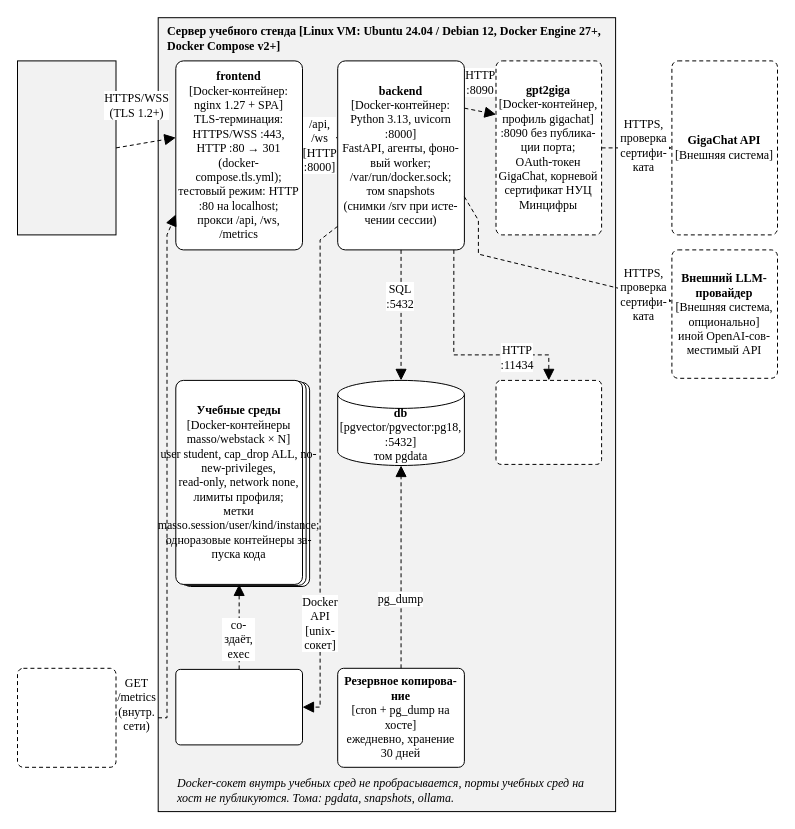
This 795x829 diagram has some shape labels left out. Here are the shapes that lost their labels. From the top down, the centre of each, then its label:
At point (66, 147): "Ра­бо­чее место поль­зо­ва­те­ля [Chromium / Firefox, экран от 1366×768]".
At point (548, 421): "ollama [Docker-кон­тей­нер, про­филь llm, оп­ци­о­наль­но] :11434; том ollama".
At point (66, 717): "Си­сте­ма мо­ни­то­рин­га [Внеш­няя си­сте­ма, оп­ци­о­наль­но]".
At point (238, 706): "Docker Engine [Сервис ОС]".
